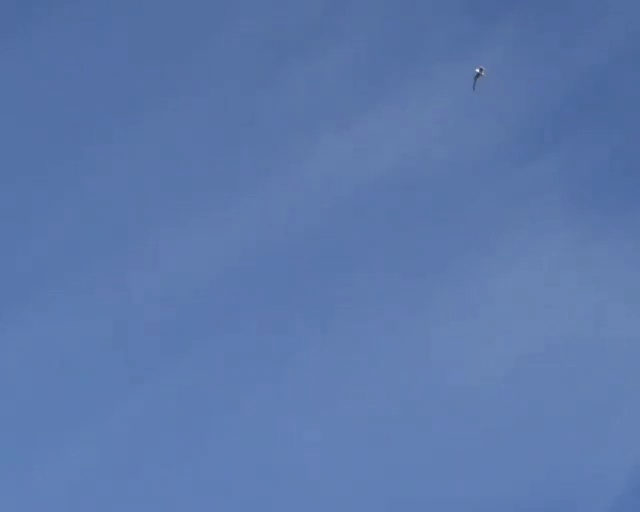BIRD: (472, 65, 485, 91)
